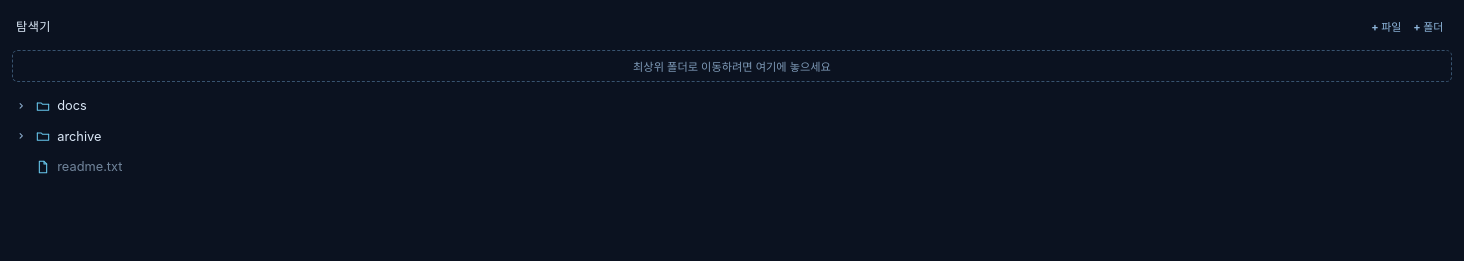
Test: WorkspaceExplorer › supports inline rename from double click and a context menu
Click the button named "docs 폴더 펼치기". click: [22, 106]
box: [12,94,32,118]
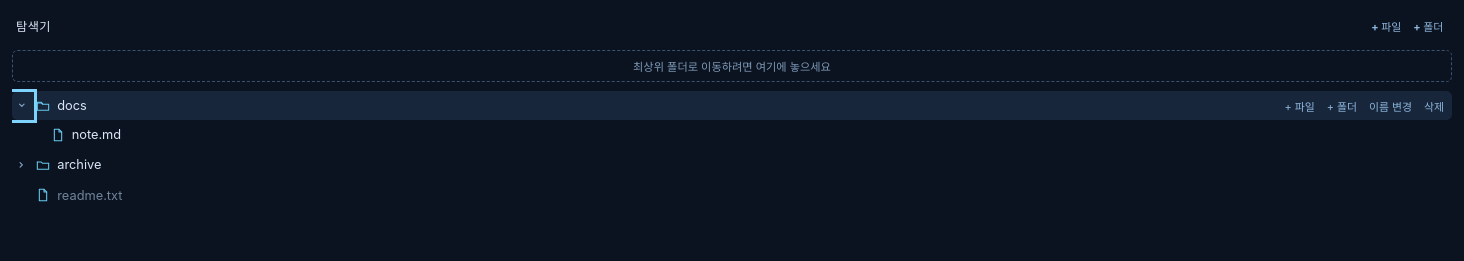
Double-click the button with aria-label "docs/note.md" at [96, 135], box [46,123,1364,147]
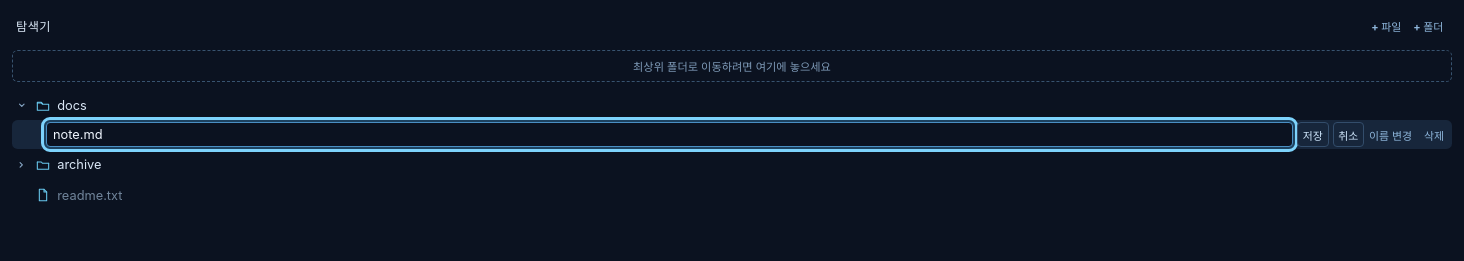
Replace the text in the field named "note.md 이름 변경 입력" with "renamed.md". click: [670, 135]
box: [46,122,1293,147]
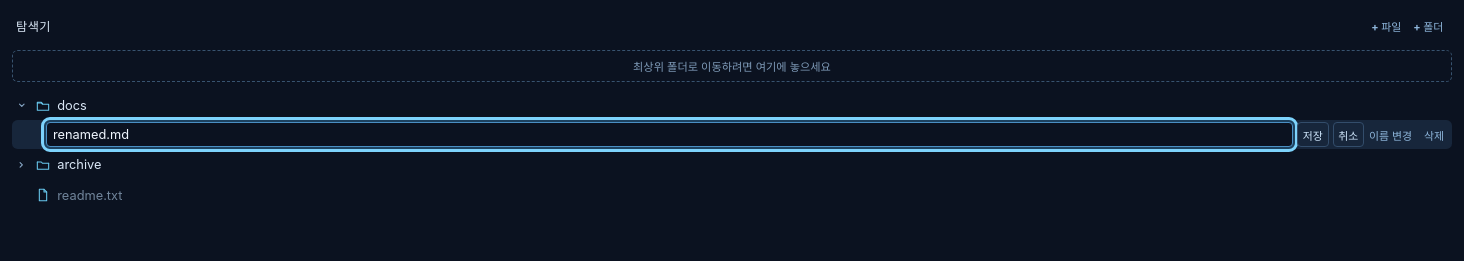
Press Enter
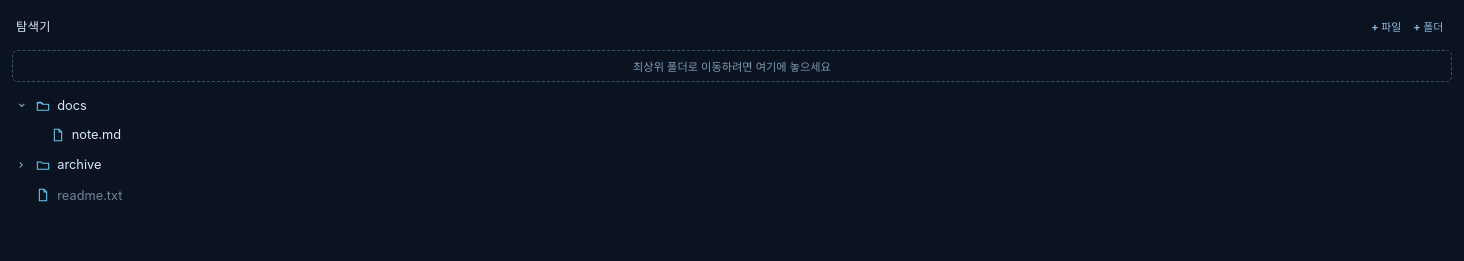
Right-click the button with aria-label "docs/note.md" at [96, 135], box [46,123,1364,147]
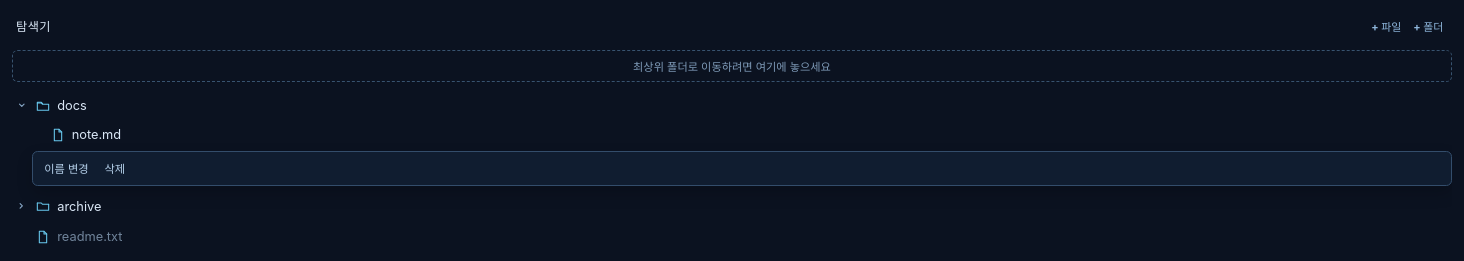
Expected: the menu named "note.md 메뉴" is shown, [32,151,1452,186]
Expected: the menu item "이름 변경" is shown, [38,156,95,180]
